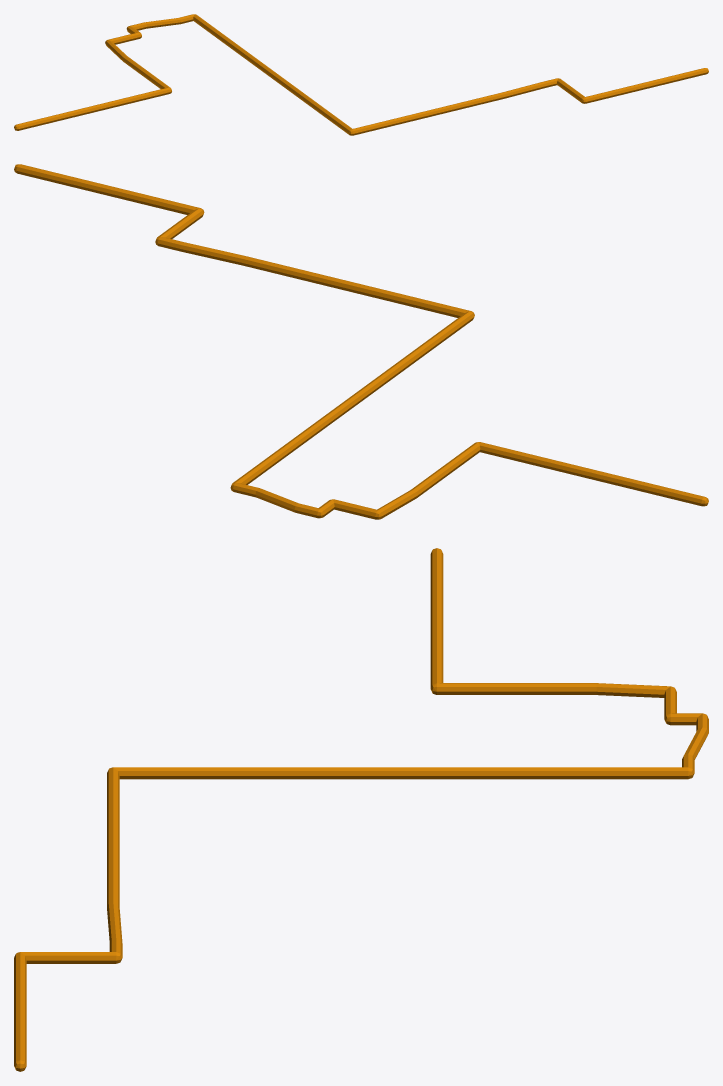
The picture shows the model from 3 angles, top to bottom: view 1: azimuth 30°, elevation 25°; view 2: azimuth 150°, elevation 25°; view 3: azimuth 270°, elevation 25°; orthographic projection. The views are drawn at different scales.
Size of the model in its own units: 1916 by 20 by 1088.
